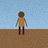person: (16, 12, 27, 35)
